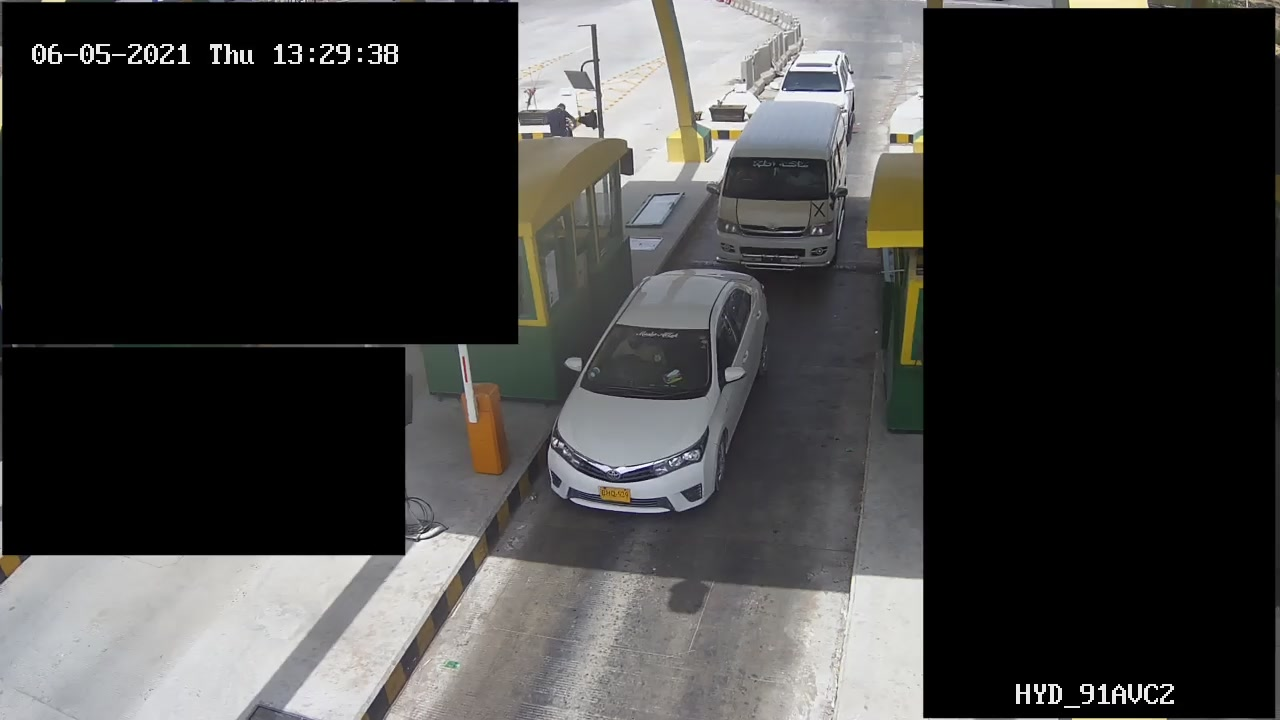F1: (539, 272, 775, 510)
F2: (708, 99, 850, 272)
